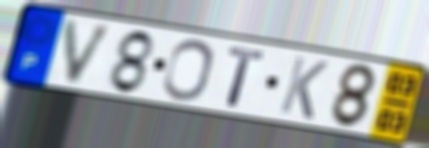8: (327, 61, 379, 131), (107, 27, 157, 97)
K: (276, 53, 332, 123)
O: (160, 38, 216, 104)
T: (225, 45, 269, 110)
V: (62, 17, 118, 87)
